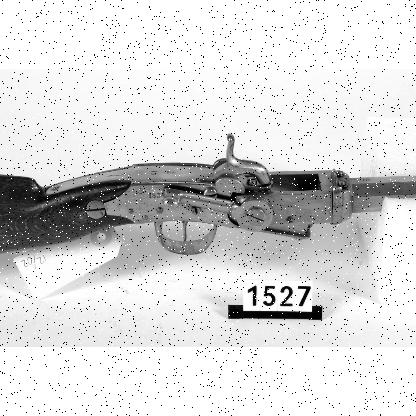gun: (0, 132, 415, 252)
